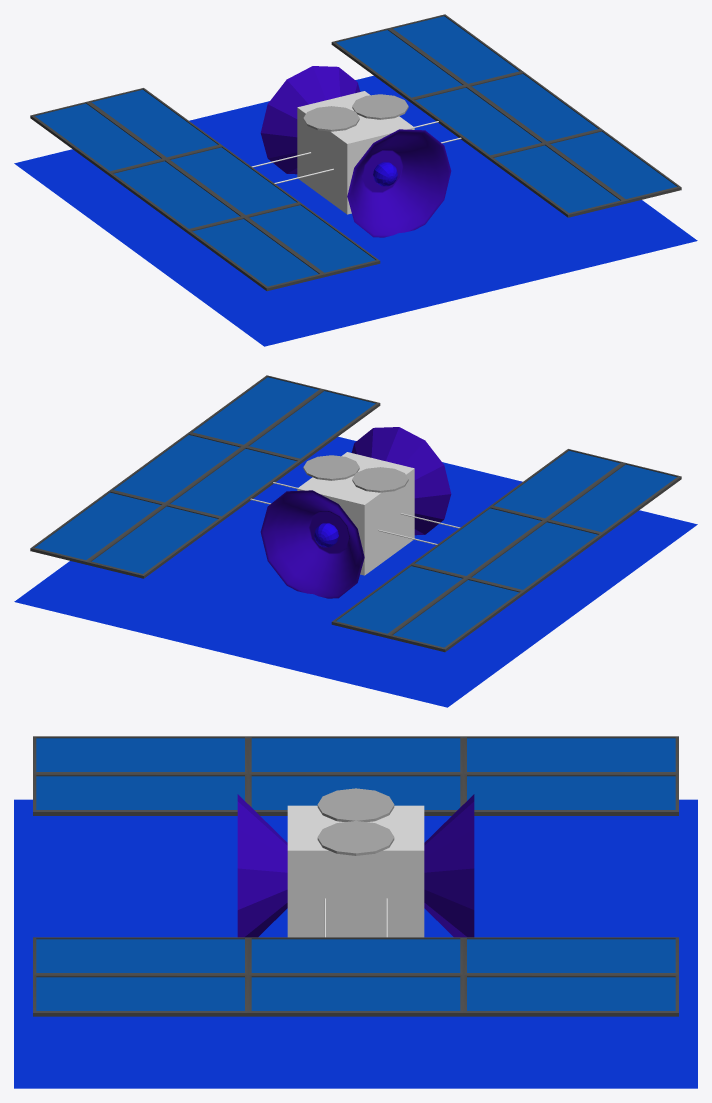
File: satellite2_blue.fbx
3 views of the same model, one above another, from view 1: azimuth 30°, elevation 25°; view 2: azimuth 150°, elevation 25°; view 3: azimuth 270°, elevation 25° (orthographic). The views are drawn at different scales.
Visible parts, largest first — view 1: pCube10 (×2), ght_ght1, pCone1 (×2), pCube9, pCylinder13, pCylinder14; view 2: pCube10 (×2), ght_ght1, pCone1 (×2), pCube9, pCylinder13, pCylinder14; view 3: ght_ght1, pCube10 (×2), pCube9, pCone1 (×2), pCylinder14, pCylinder13.
Boxes of the visible parts, box(x1,y1,x2,y2) form: pCube10 (×2): box(30, 14, 681, 291); ght_ght1: box(14, 75, 697, 346); pCone1 (×2): box(260, 66, 451, 237); pCube9: box(297, 91, 414, 214); pCylinder13: box(303, 106, 359, 131); pCylinder14: box(352, 94, 408, 119); pCube10 (×2): box(30, 375, 681, 652); ght_ght1: box(14, 436, 697, 707); pCone1 (×2): box(260, 427, 451, 598); pCube9: box(297, 452, 414, 575); pCylinder13: box(352, 467, 408, 492); pCylinder14: box(303, 455, 359, 480); ght_ght1: box(14, 799, 697, 1088); pCube10 (×2): box(33, 736, 678, 1016); pCube9: box(287, 805, 424, 937); pCone1 (×2): box(237, 794, 474, 937); pCylinder14: box(317, 821, 394, 855); pCylinder13: box(317, 788, 394, 821).
Size of the model in its own units: 8 by 1.92 by 8.
